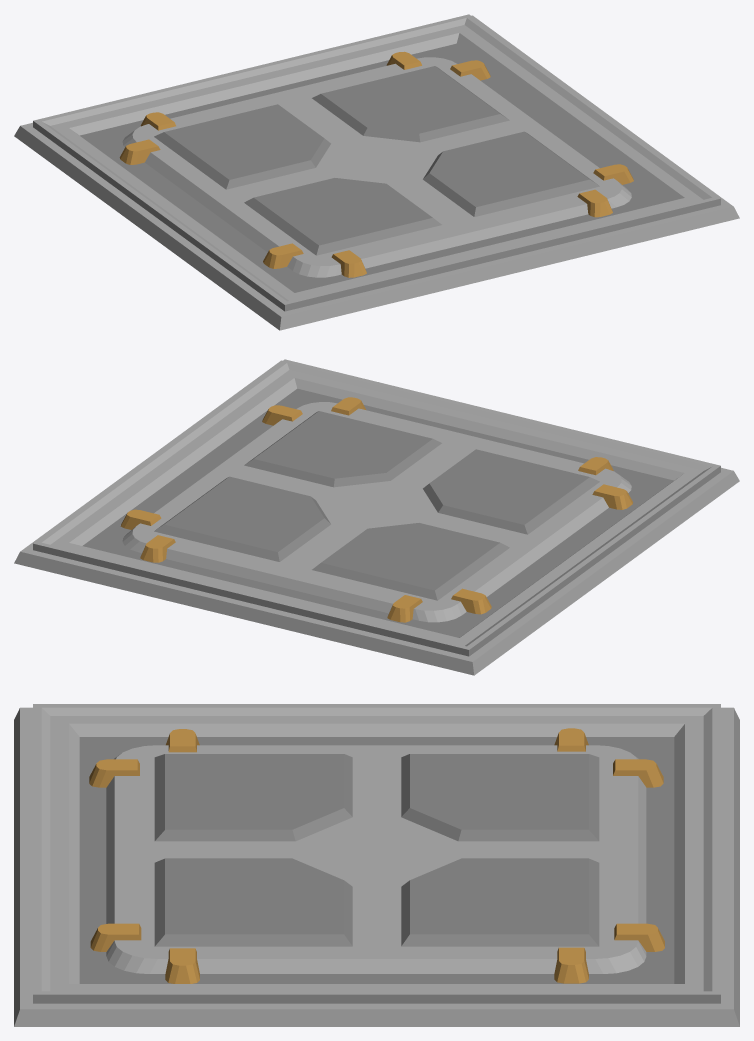
The model's file is RoofTile_Plate2.gltf.
3 views of the same model, one above another, from view 1: azimuth 30°, elevation 25°; view 2: azimuth 150°, elevation 25°; view 3: azimuth 270°, elevation 25° (orthographic). The views are drawn at different scales.
Parts seen in each view (by area): view 1: RoofTile_Plate2; view 2: RoofTile_Plate2; view 3: RoofTile_Plate2.
Boxes of the visible parts, x1,y1,x2,y2 form: RoofTile_Plate2: (14,14,739,330); RoofTile_Plate2: (14,359,739,675); RoofTile_Plate2: (14,704,739,1026).
Size of the model in its own units: 2 by 0.0935 by 2.
